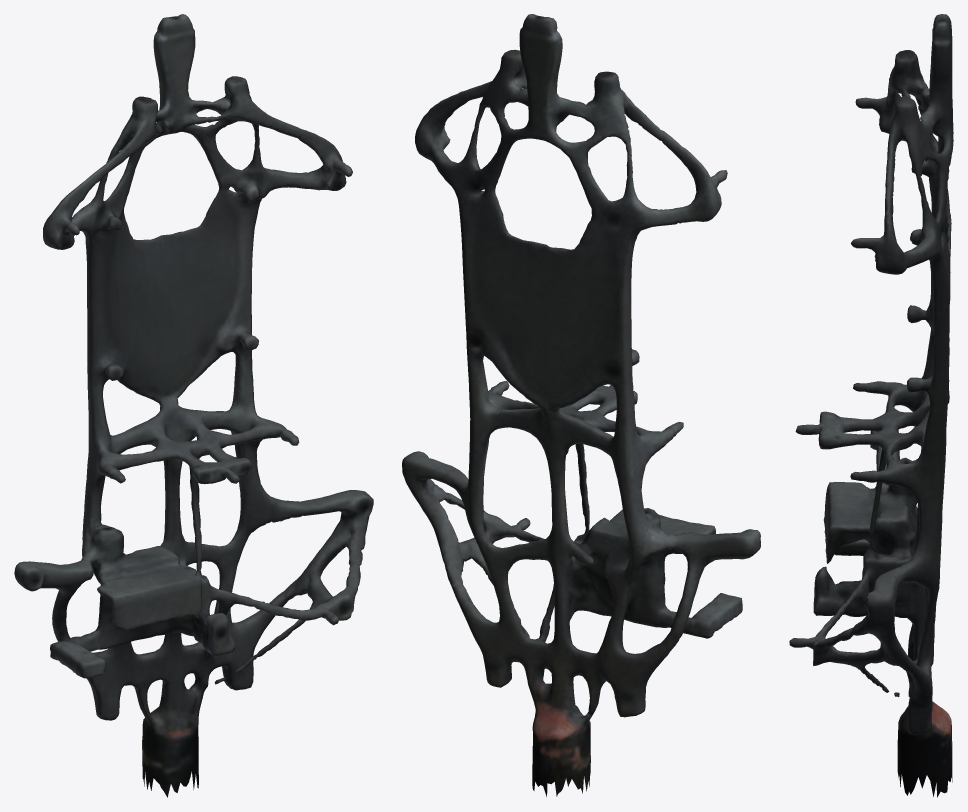
The model's file is MeshEdited.obj.
3 views of the same model, side by side, from view 1: azimuth 30°, elevation 25°; view 2: azimuth 150°, elevation 25°; view 3: azimuth 270°, elevation 25° (orthographic). The views are drawn at different scales.
Parts seen in each view (by area): view 1: Mesh; view 2: Mesh; view 3: Mesh.
Part boxes in pixels (x1,y1,x2,y2): Mesh: [14, 14, 373, 797]; Mesh: [402, 14, 760, 796]; Mesh: [789, 14, 953, 797].
Bounding box in the file's own units: 85.5 × 178 × 34.26.
Materials: 1 (1 with a texture image).
